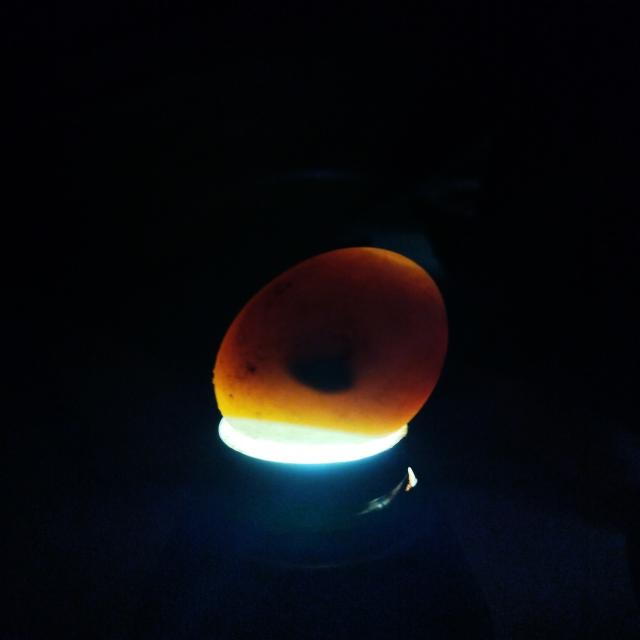Area Infectada: (234, 265, 441, 397)
